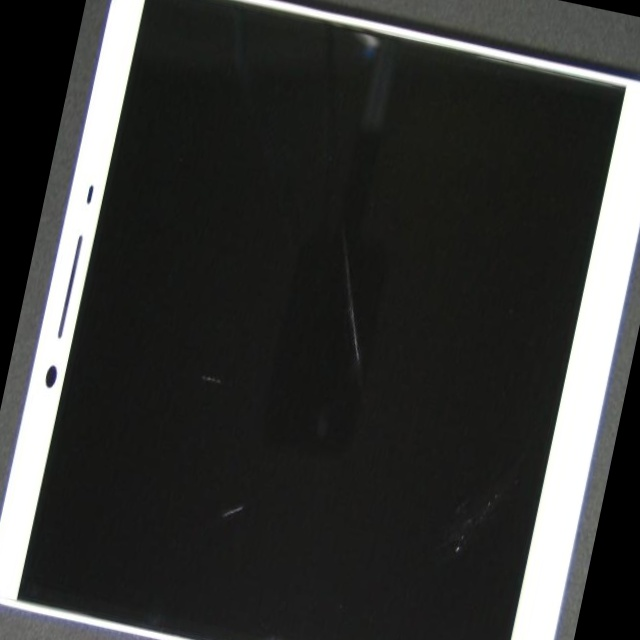scratch: (205, 139, 530, 422)
